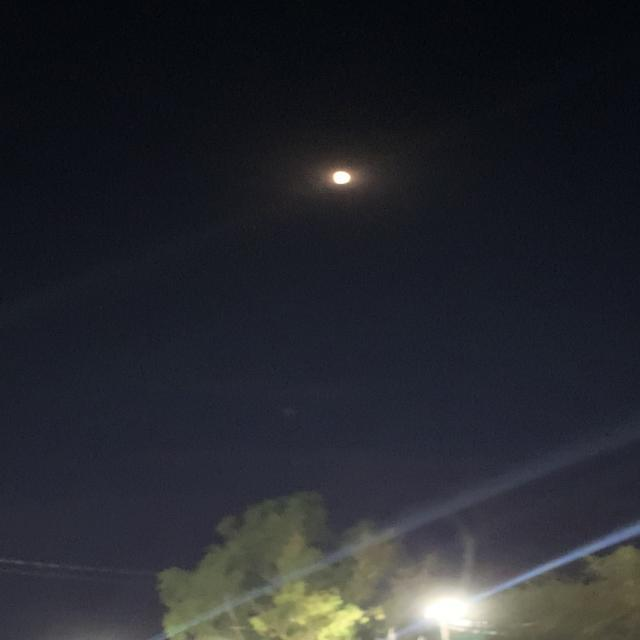moon: (314, 165, 370, 193)
